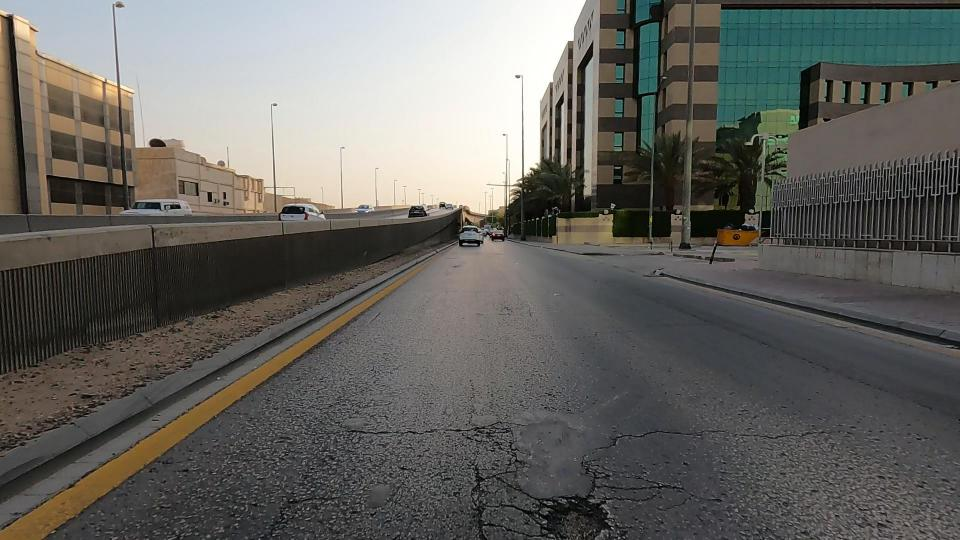POTHOLES: (421, 424, 692, 540)
